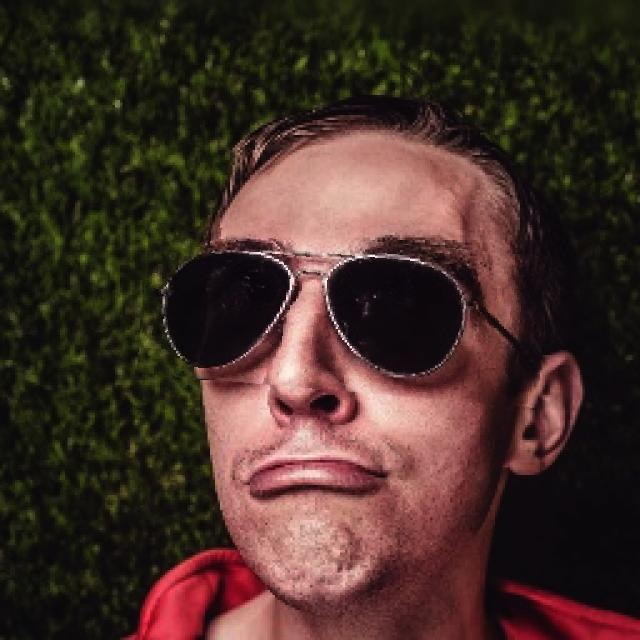glasses: (140, 230, 548, 400)
